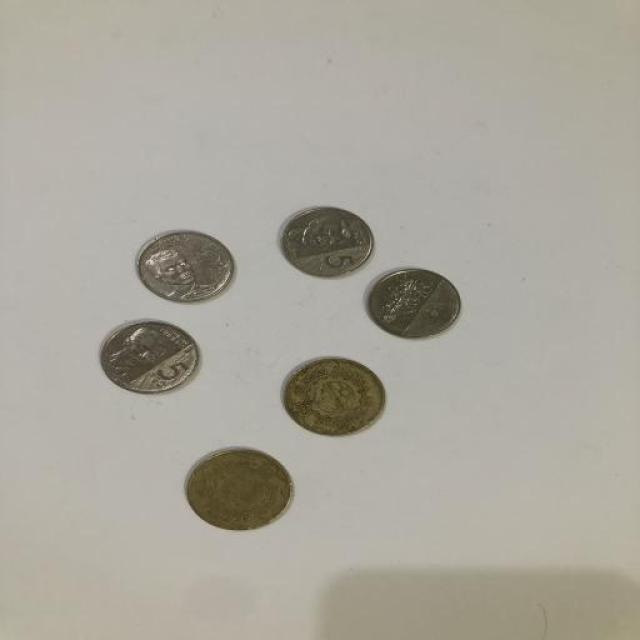5 peso: (275, 199, 380, 288), (99, 320, 199, 395), (136, 230, 234, 304), (366, 268, 462, 340)
5 peso-old: (185, 447, 295, 532), (281, 355, 388, 438)
